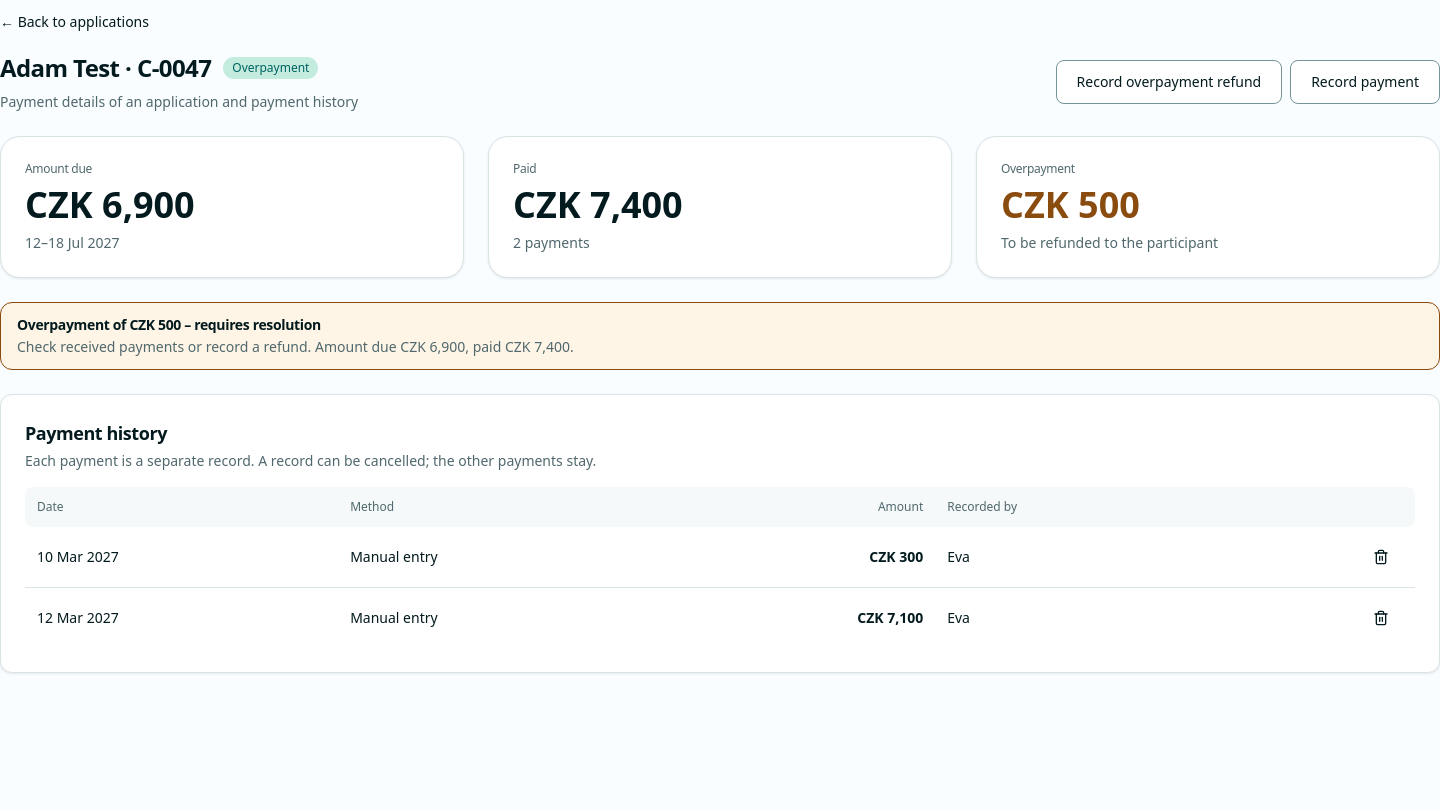
Test: PaymentDetail › previews cancellation of 300 correctly when an application is overpaid
Expected: the table is shown, x1=25 y1=487 x2=1415 y2=648
Step 1. Click the button named "Cancel record" in the row of "10 Mar 2027" → point(1381, 557), box x1=1359 y1=535 x2=1403 y2=579
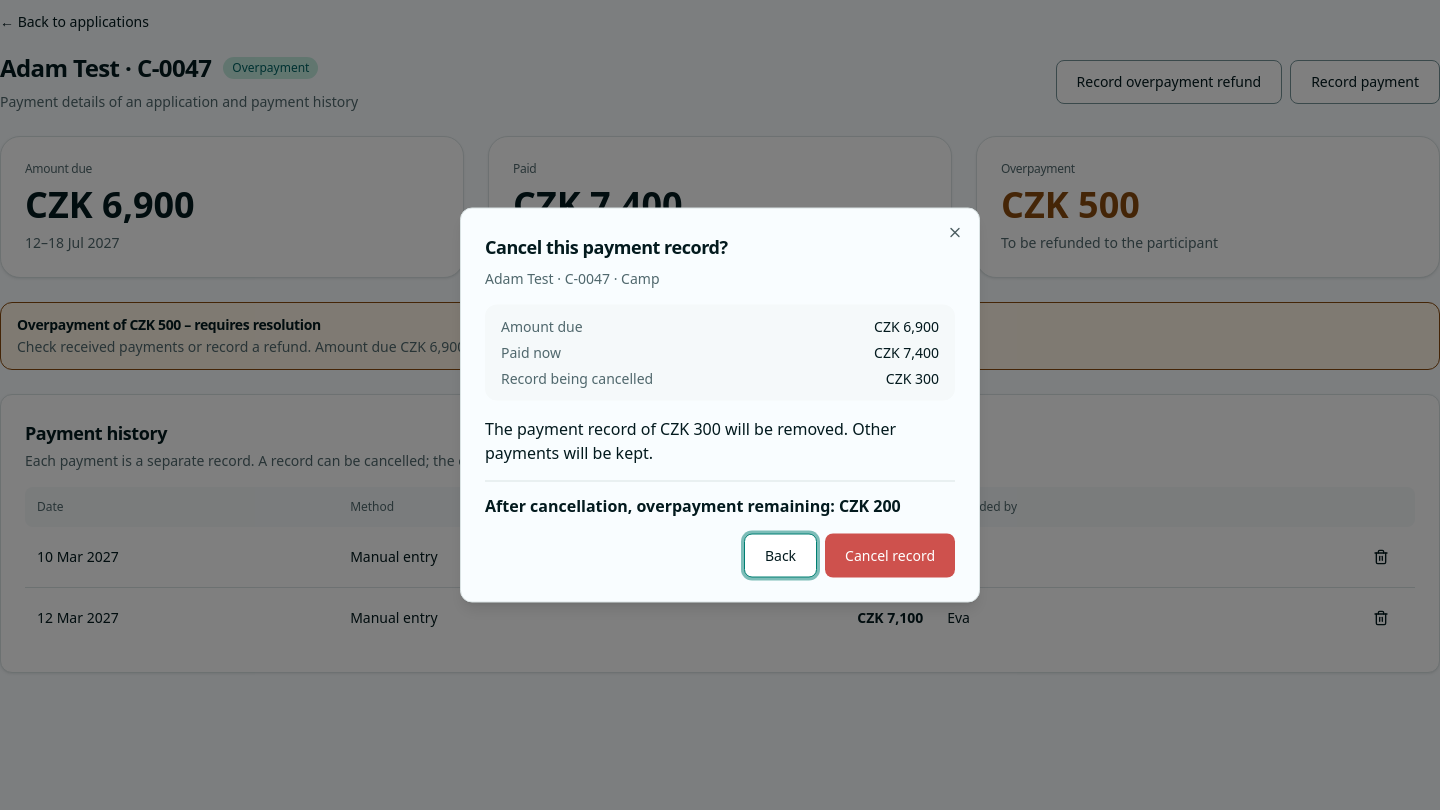
Now the text "After cancellation, overpayment remaining: CZK 200" is shown, box x1=485 y1=480 x2=955 y2=518
